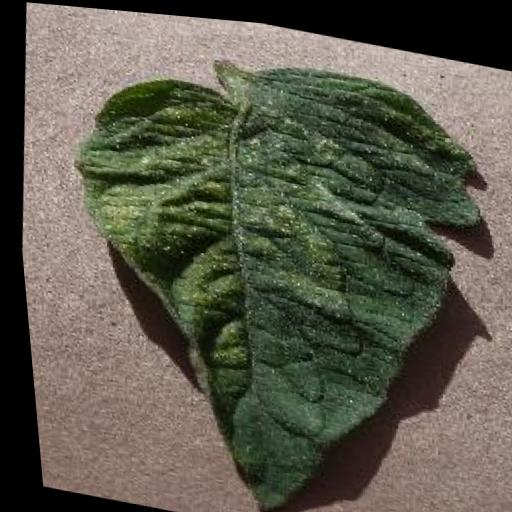Spider Mites: (25, 16, 512, 512)
